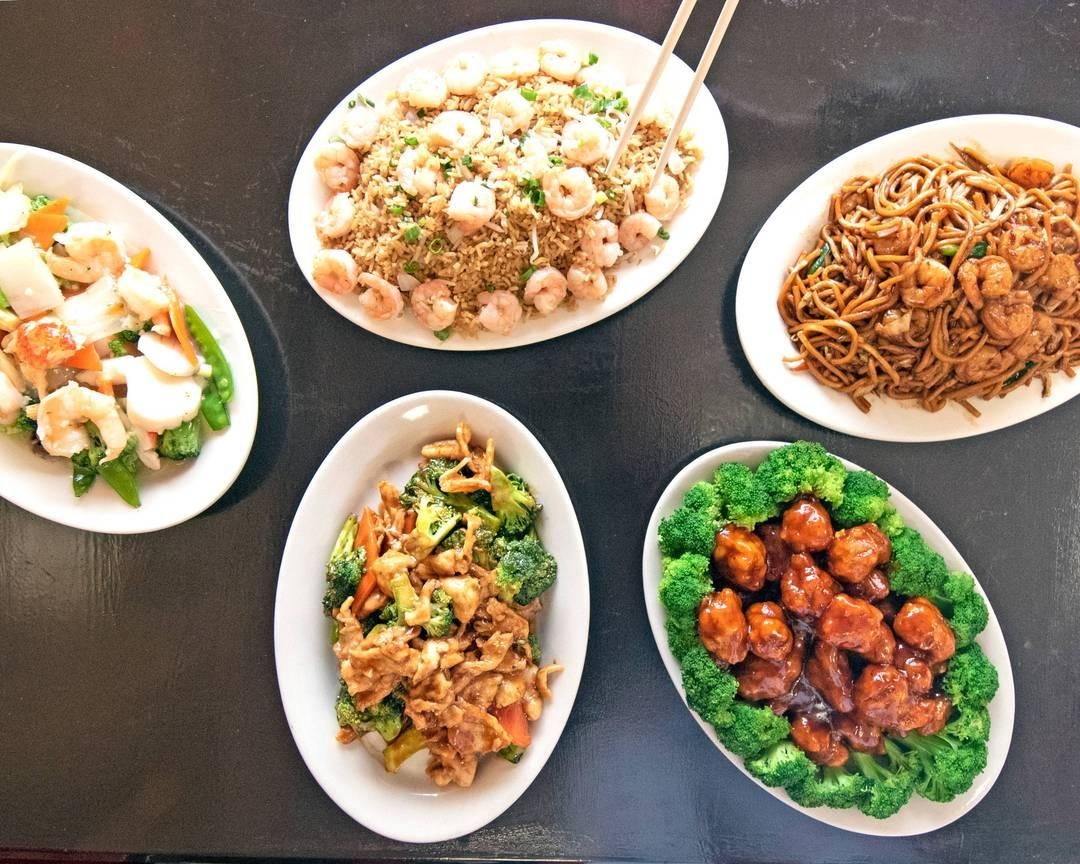Braised Crucian Carp: (289, 18, 722, 351), (640, 443, 1006, 835), (272, 394, 584, 836), (735, 110, 1078, 441), (2, 139, 261, 527)
